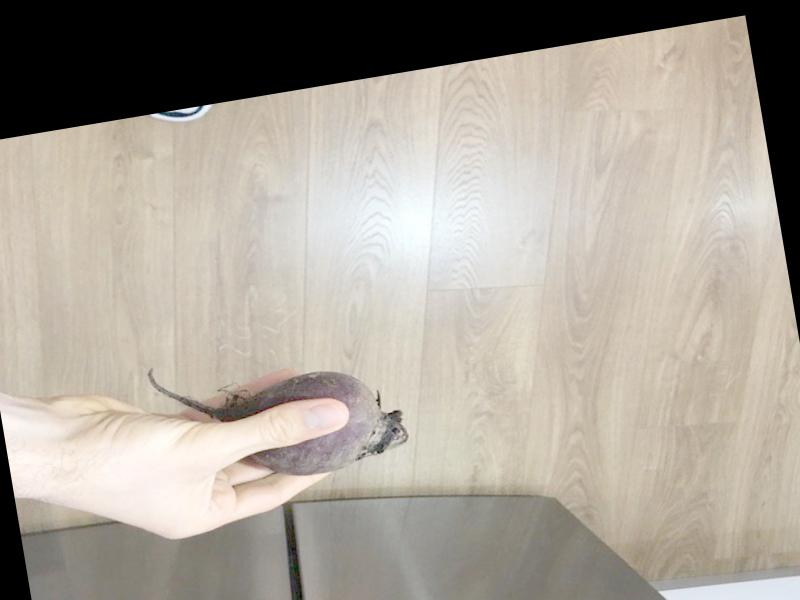Beet: (149, 327, 414, 499)
